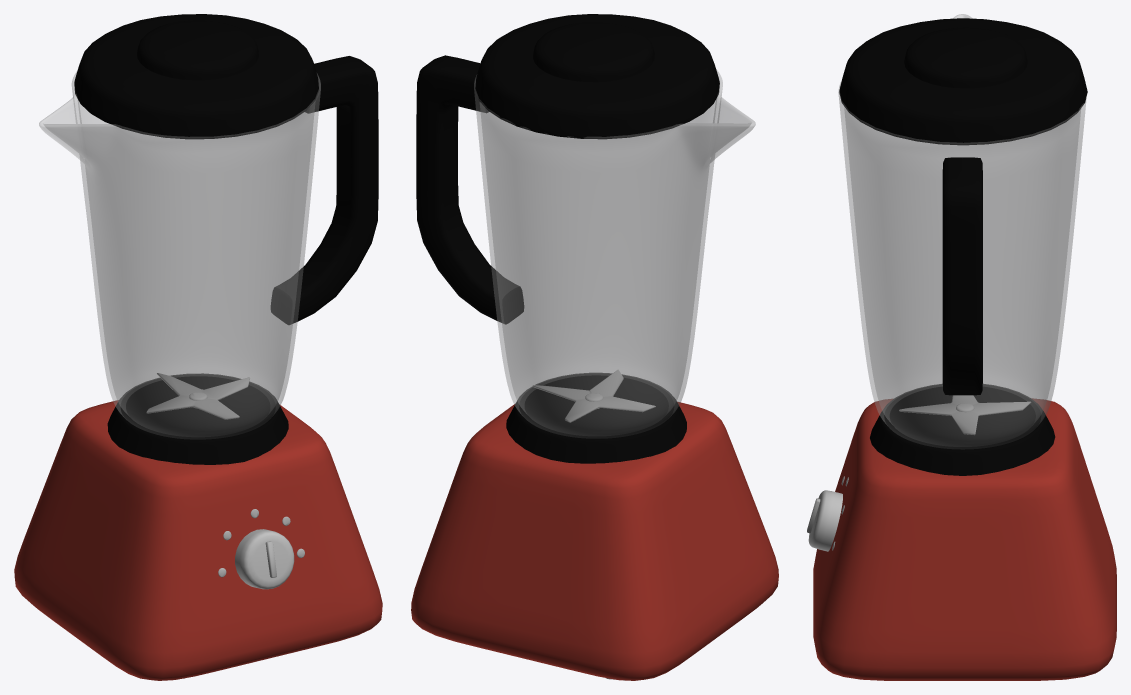
The model's file is blender.glb.
3 renders of one model, left to right at view 1: azimuth 30°, elevation 25°; view 2: azimuth 150°, elevation 25°; view 3: azimuth 270°, elevation 25°, orthographic.
Parts seen in each view (by area): view 1: Cube.001; view 2: Cube.001; view 3: Cube.001.
Part boxes in pixels (x1,y1,x2,y2): Cube.001: (14,14,382,680); Cube.001: (411,14,778,680); Cube.001: (807,14,1116,680).
Size of the model in its own units: 2.39 by 4.04 by 1.92.
3 materials, 3 textured.
